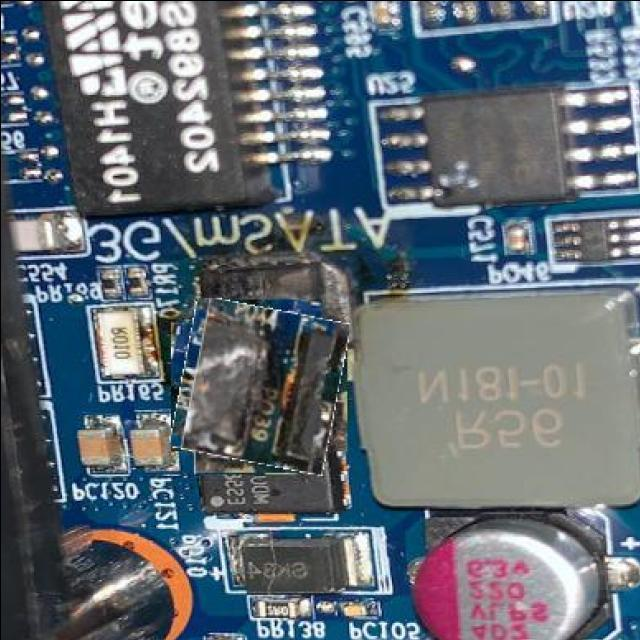Burn: (175, 302, 343, 468)
